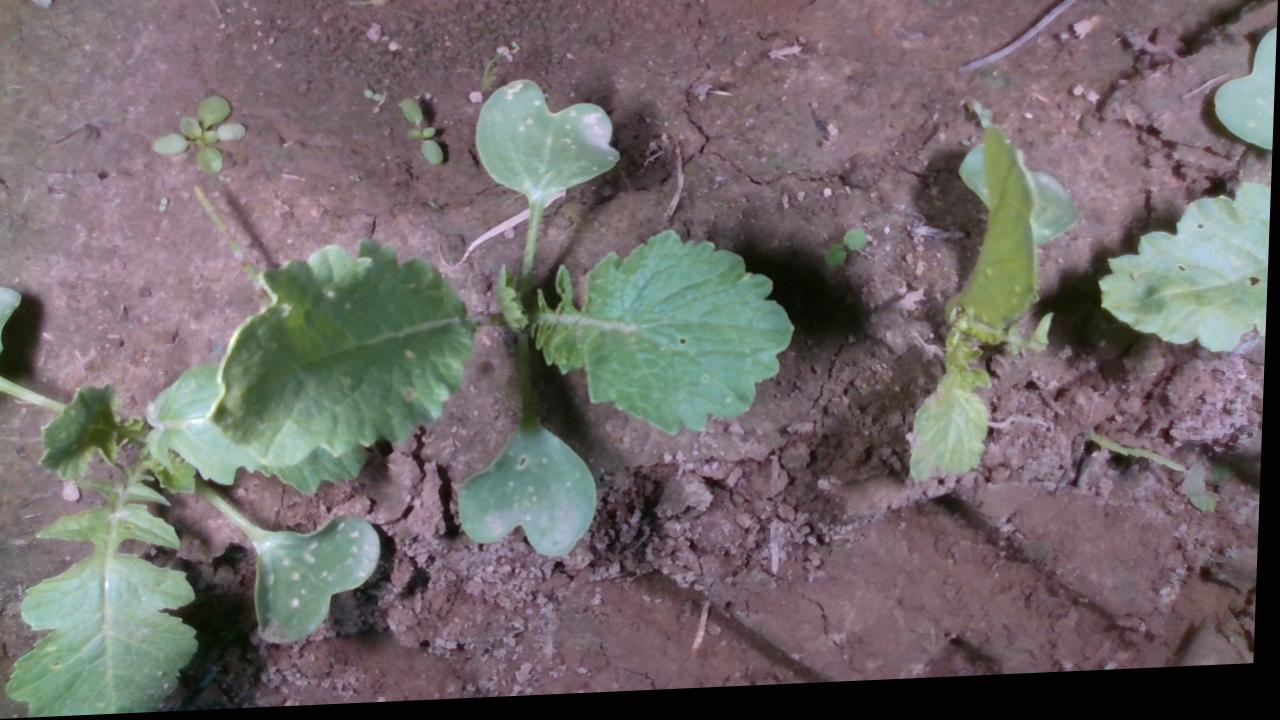weed: (150, 93, 250, 180), (397, 98, 446, 171), (823, 233, 870, 278)
